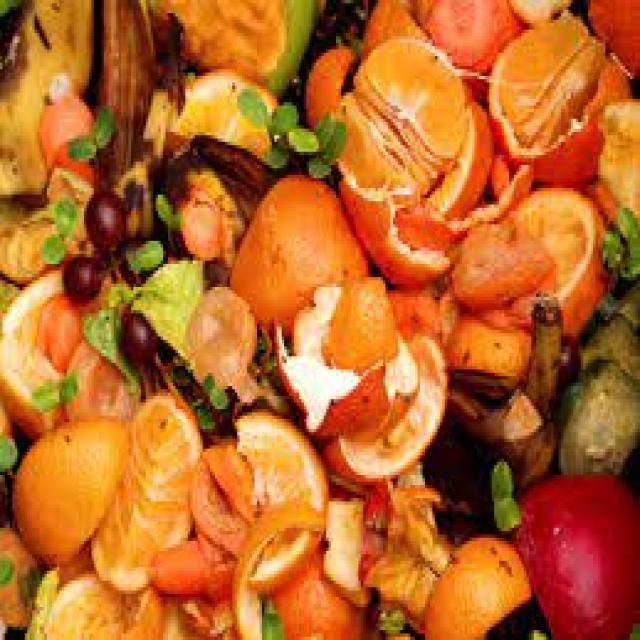Organik: (0, 0, 640, 640), (222, 155, 458, 475), (309, 0, 509, 293), (39, 143, 149, 308), (182, 291, 272, 412)
